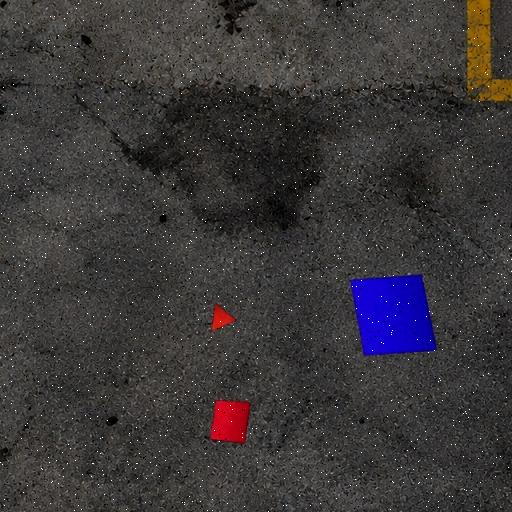BLUE_SQUARE: (350, 274, 438, 356)
RED_SQUARE: (210, 399, 250, 445)
